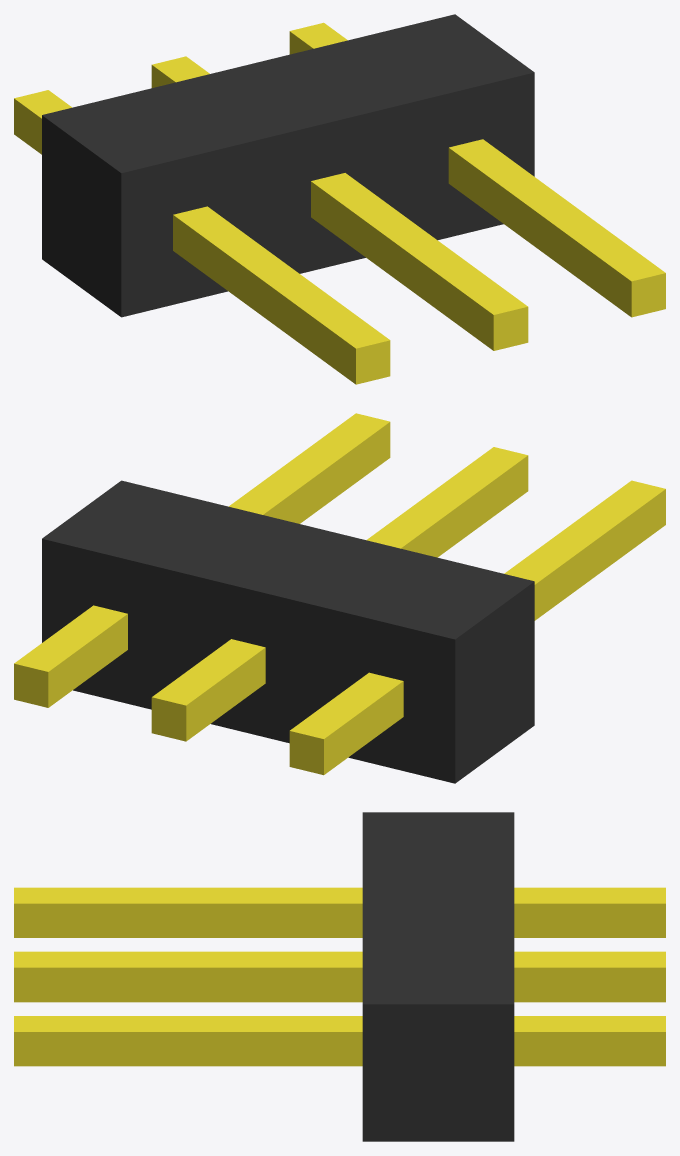
The picture shows the model from 3 angles, top to bottom: view 1: azimuth 30°, elevation 25°; view 2: azimuth 150°, elevation 25°; view 3: azimuth 270°, elevation 25°; orthographic projection. The views are drawn at different scales.
Parts seen in each view (by area): view 1: SamtecTSWbody (×3), SamtecTSWpin (×3); view 2: SamtecTSWbody (×3), SamtecTSWpin (×3); view 3: SamtecTSWpin (×3), SamtecTSWbody (×3).
Part boxes in pixels (x1,y1,x2,y2): SamtecTSWbody (×3): (42,14,534,317); SamtecTSWpin (×3): (14,22,665,384); SamtecTSWbody (×3): (42,480,534,783); SamtecTSWpin (×3): (14,413,665,775); SamtecTSWpin (×3): (14,887,665,1066); SamtecTSWbody (×3): (362,812,514,1141).
Bounding box in the file's own units: 7.62 × 2.54 × 10.92.
